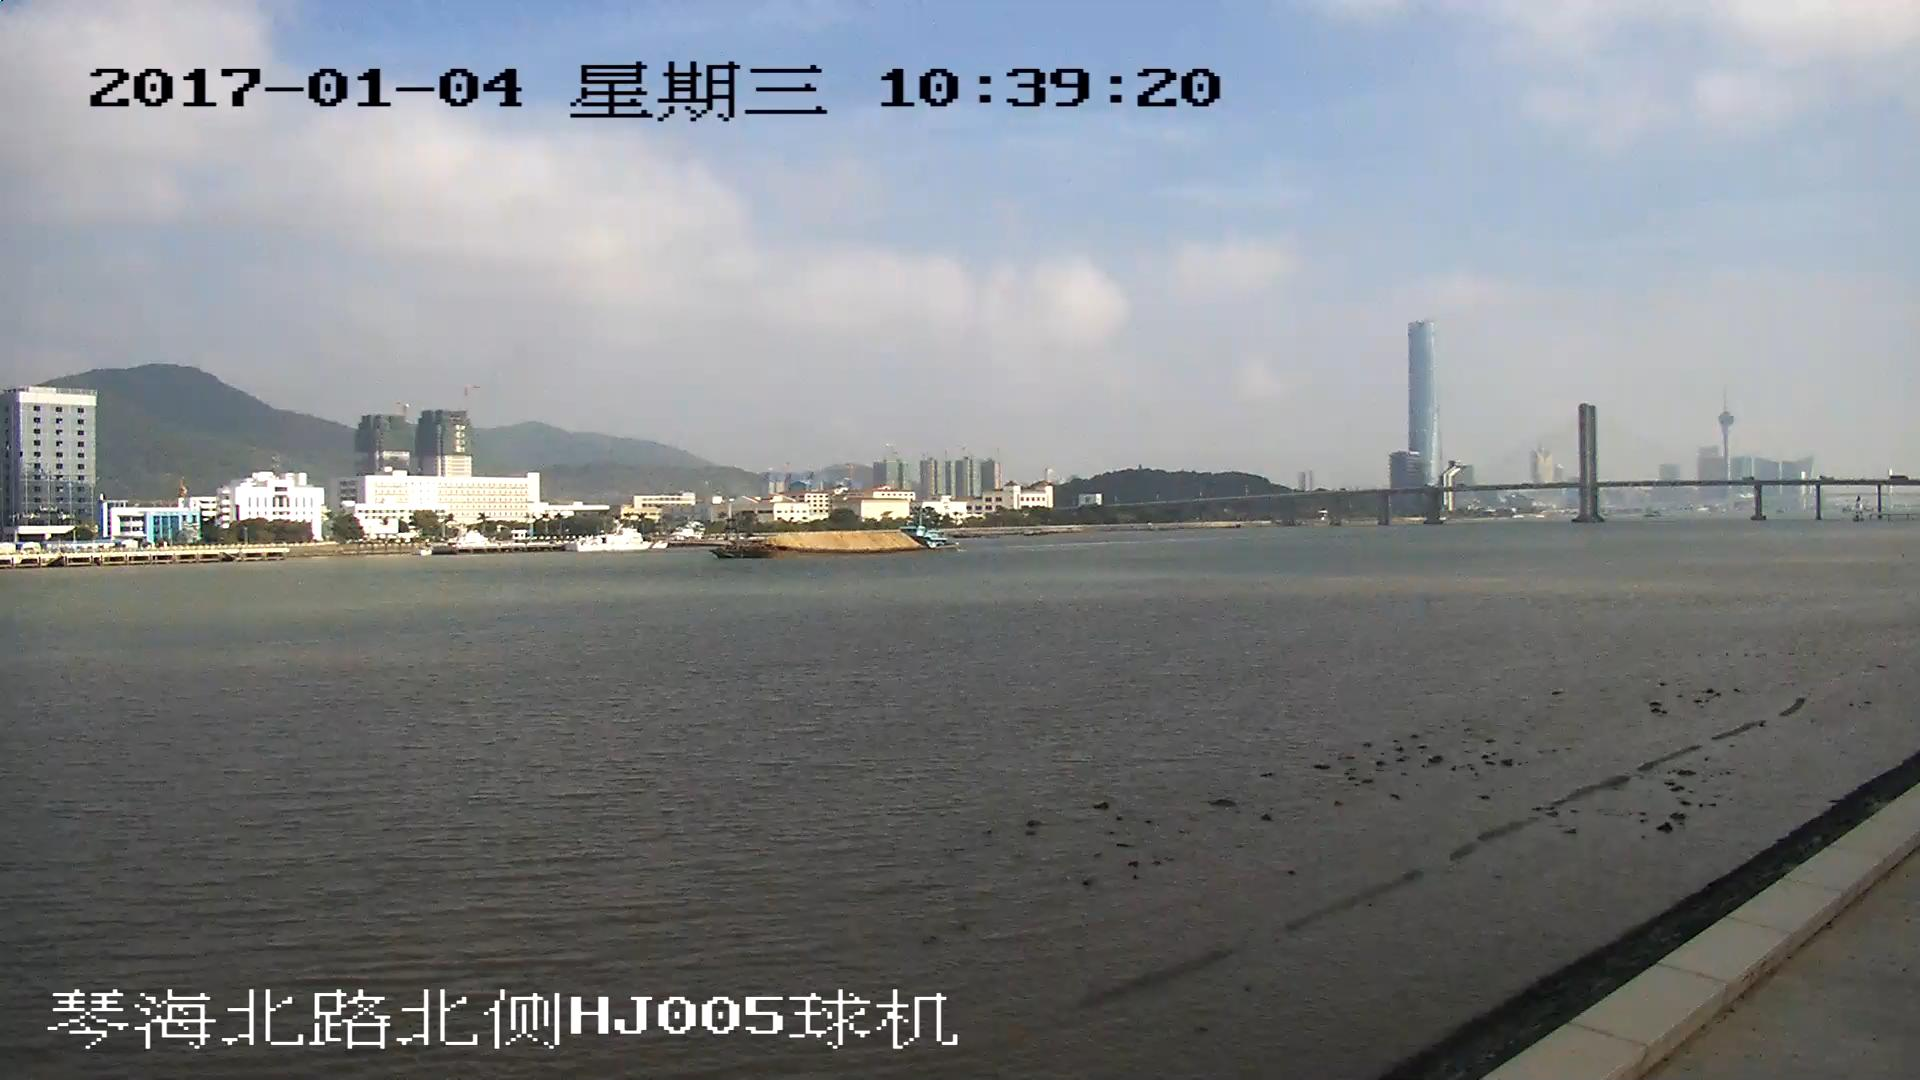ore carrier: (717, 528, 949, 555)
